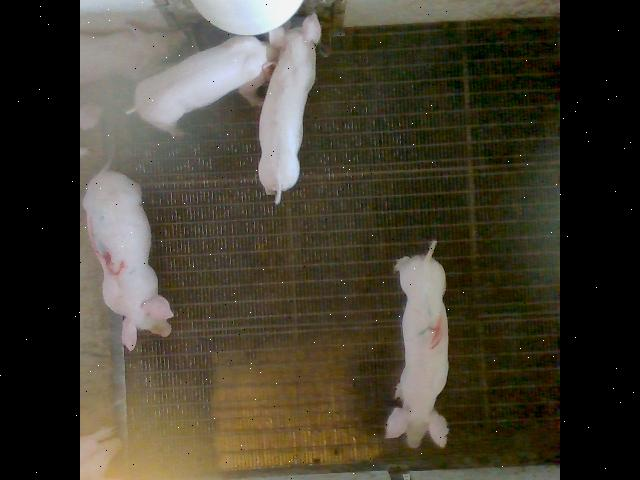pig-3: (84, 169, 174, 349)
pig-4: (387, 239, 449, 446)
